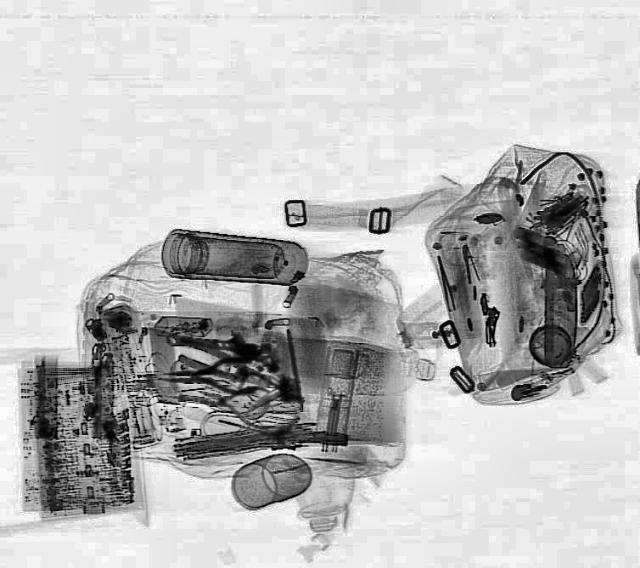Pliers: (159, 355, 255, 395)
Wrench: (164, 330, 258, 358)
